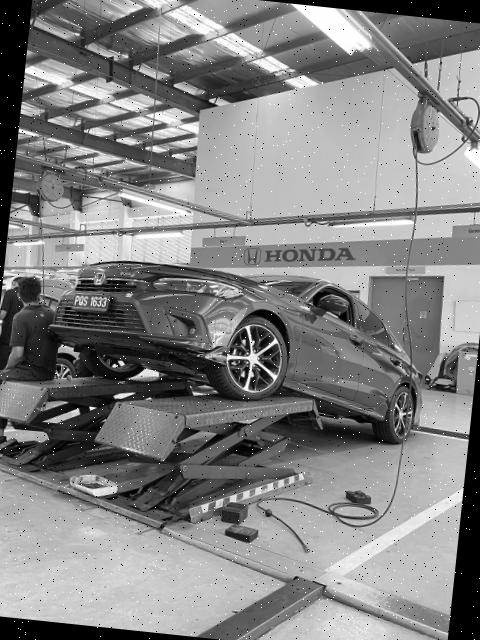License_Plate: (71, 293, 113, 315)
car: (38, 214, 439, 443)
